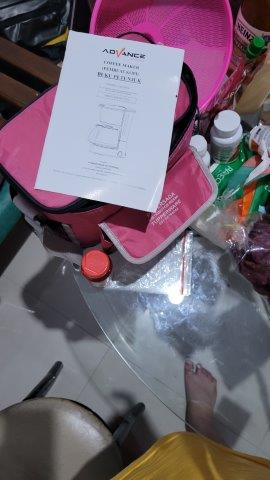kertas: (31, 32, 187, 211)
